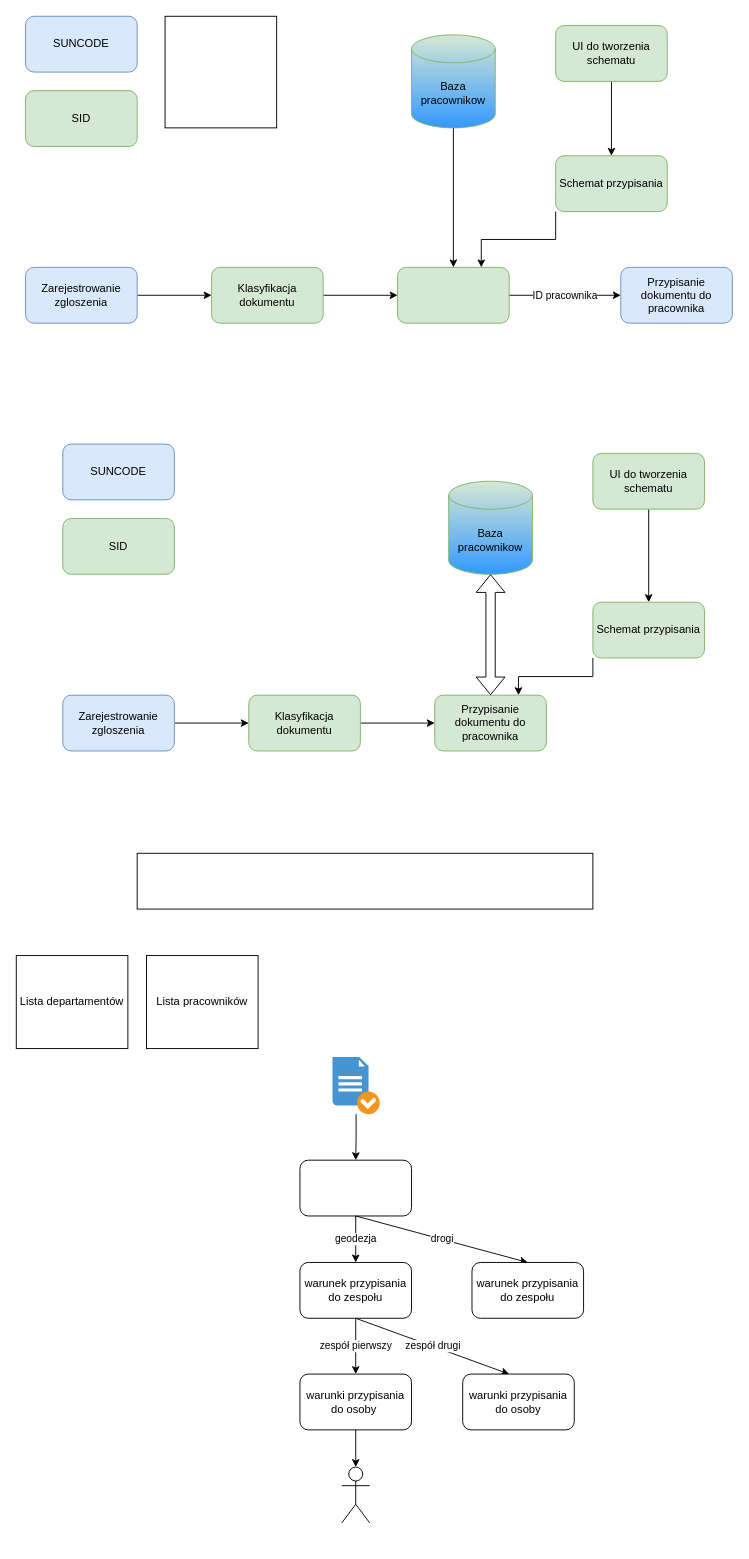
Some shapes in this 749 by 1559 pixel diagram are drawn without their labels. Each missing label, with the centre of its shape:
"Algorytm przypisania dokumentu" belongs at (453,294).
"Bezpieczenstwo: 1) Izolacja sieciowa 2) Szyfrowanie 3) Autentykacja" belongs at (220,71).
"Pracownik" belongs at (355,1494).
"UI" belongs at (364,880).
"zaklasyfikuj dokument do departamentu" belongs at (355,1187).
